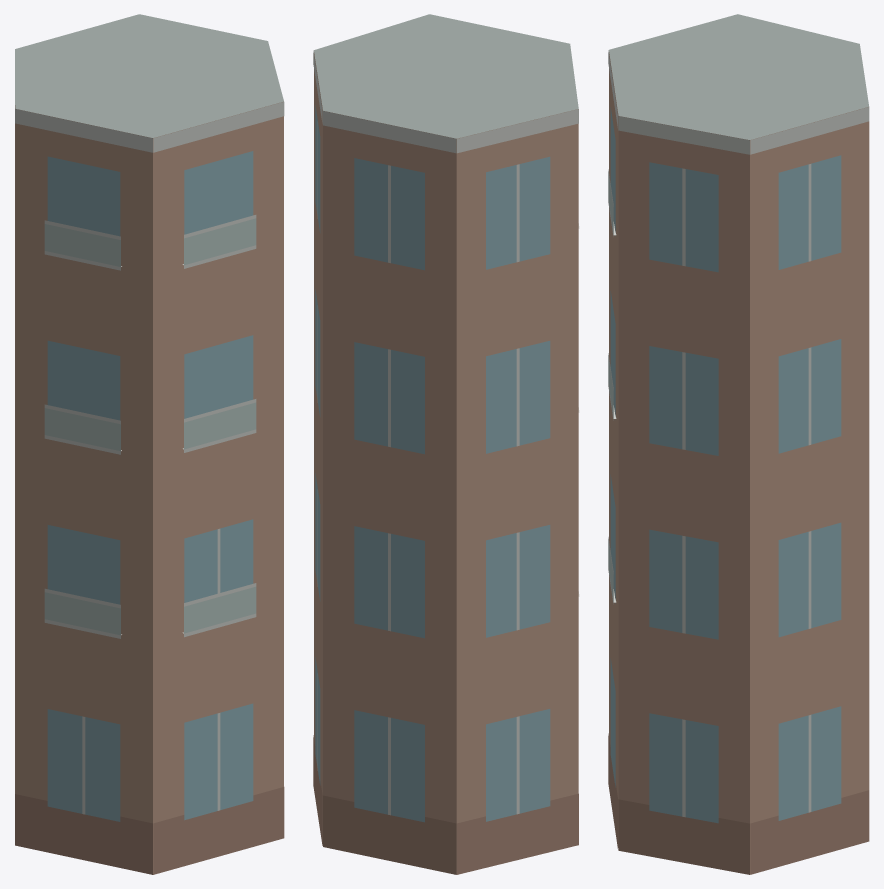
Rendered from survey-upis-32773783.glb.
3 views of the same model, side by side, from view 1: azimuth 30°, elevation 25°; view 2: azimuth 150°, elevation 25°; view 3: azimuth 270°, elevation 25° (orthographic).
Visible parts, largest first — view 1: survey-upis-32773783.tmp; view 2: survey-upis-32773783.tmp; view 3: survey-upis-32773783.tmp.
Boxes of the visible parts, <box> form: survey-upis-32773783.tmp: <box>15,14,284,874</box>; survey-upis-32773783.tmp: <box>313,14,579,874</box>; survey-upis-32773783.tmp: <box>608,14,869,874</box>.
Bounding box in the file's own units: 4.5 × 12.2 × 3.93.
